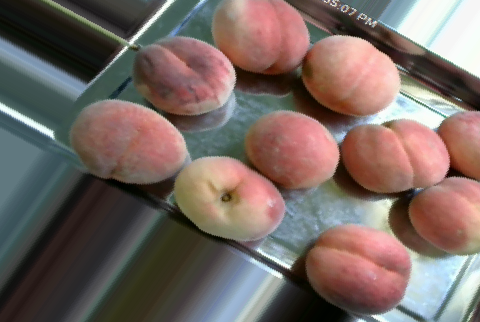Peach: (303, 224, 414, 314), (72, 99, 188, 185), (173, 156, 286, 238), (243, 108, 342, 191), (134, 36, 232, 116), (341, 119, 450, 189), (304, 35, 398, 115), (407, 175, 479, 253)
